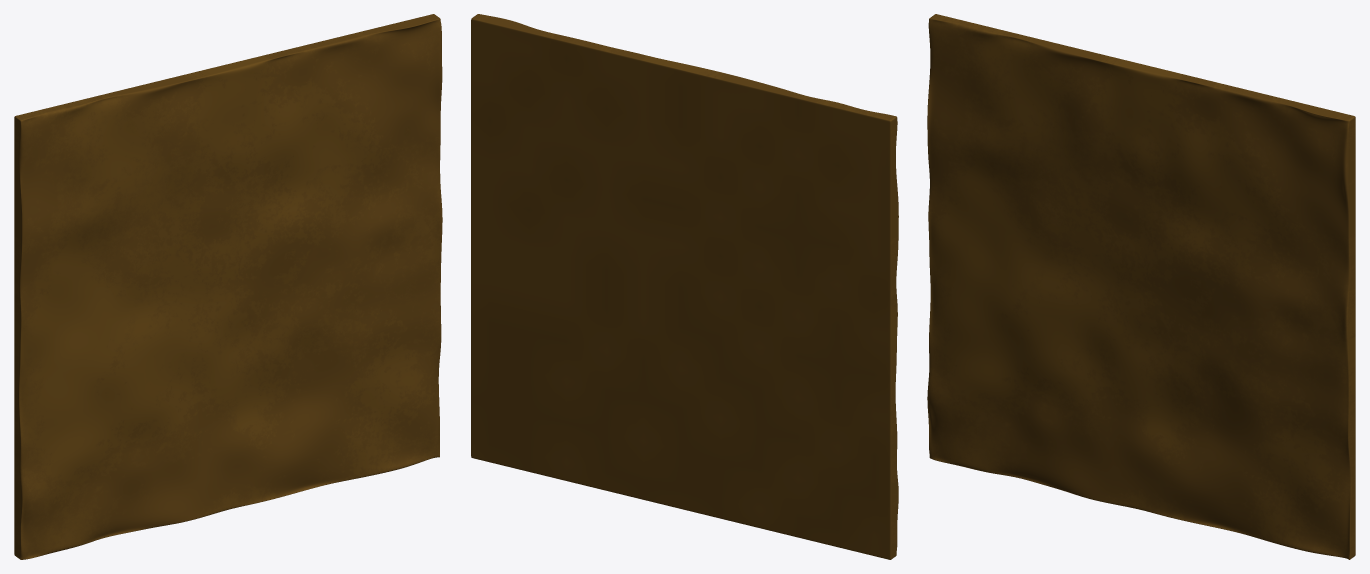
The model's file is dirt.obj.
The picture shows the model from 3 angles, left to right: view 1: azimuth 30°, elevation 25°; view 2: azimuth 150°, elevation 25°; view 3: azimuth 330°, elevation 25°; orthographic projection.
Visible parts, largest first — view 1: dirt; view 2: dirt; view 3: dirt.
Part boxes in pixels (bbox=[...]): dirt: bbox=[14, 14, 442, 559]; dirt: bbox=[471, 14, 898, 559]; dirt: bbox=[927, 14, 1355, 559].
Bounding box in the file's own units: 300 × 300 × 11.78.
Materials: 1 (1 with a texture image).
